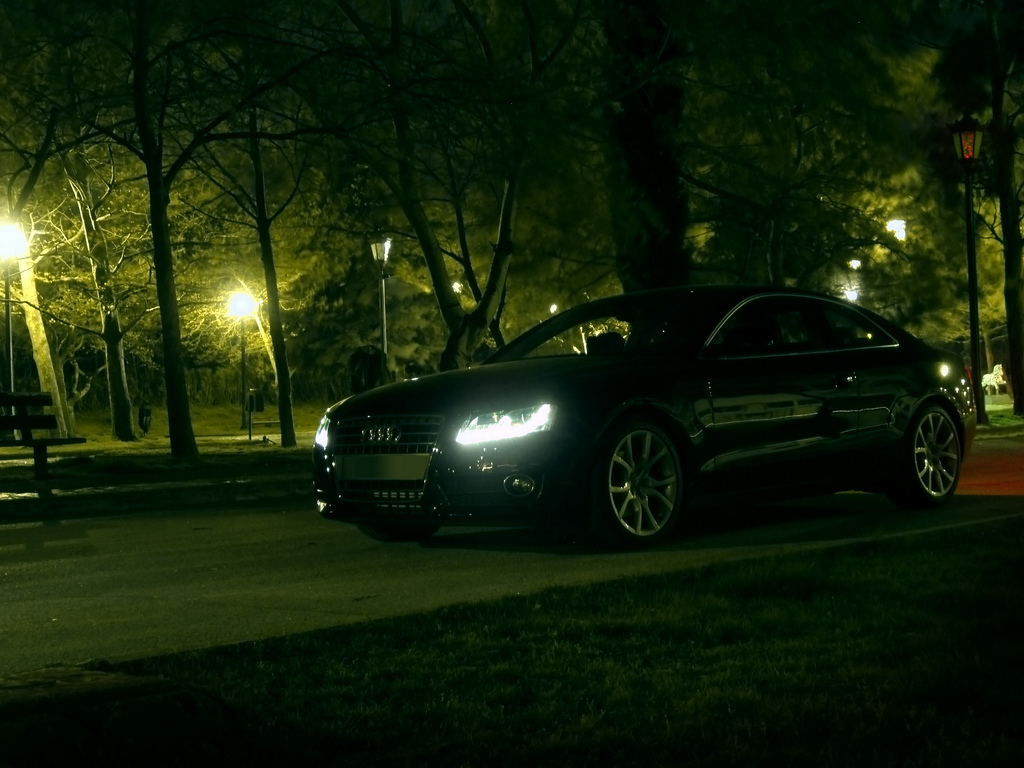car: (298, 269, 990, 564)
